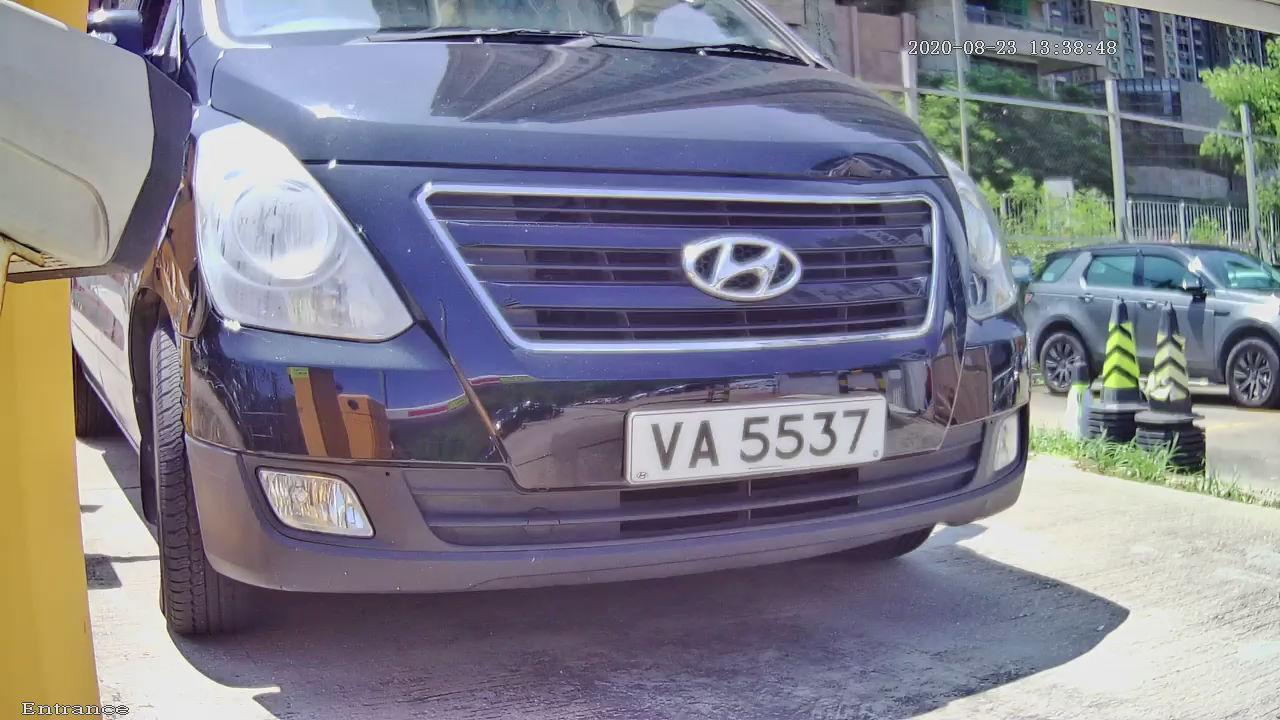Car: (35, 1, 1092, 658)
License Plate: (571, 325, 953, 536)
